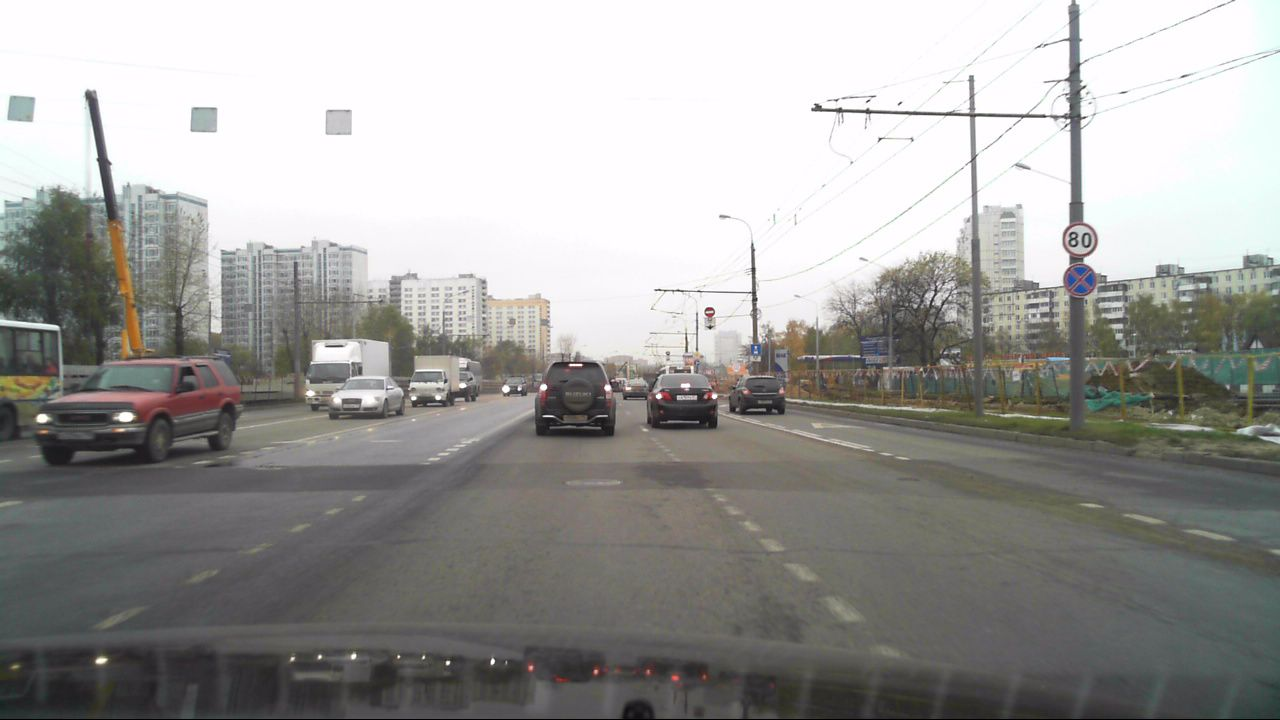No Parking: (1063, 263, 1097, 297)
